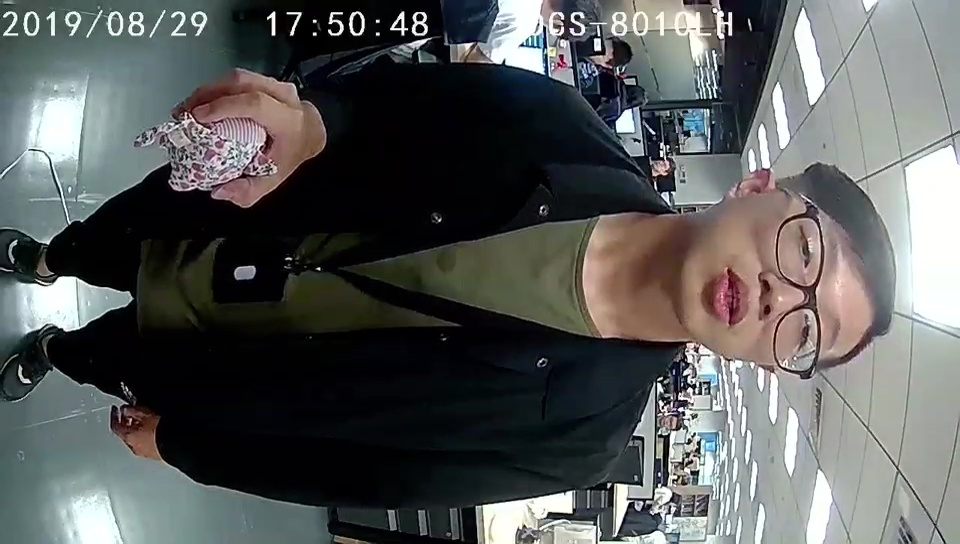pig: (164, 107, 280, 191)
